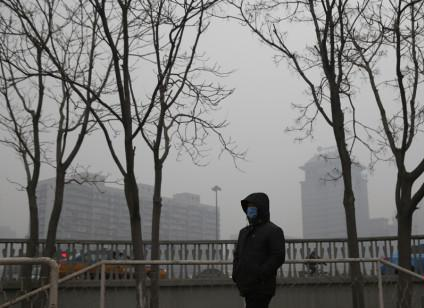car: (56, 246, 167, 280), (380, 242, 424, 278), (191, 267, 230, 280)
person: (231, 190, 286, 308), (304, 249, 327, 275)
